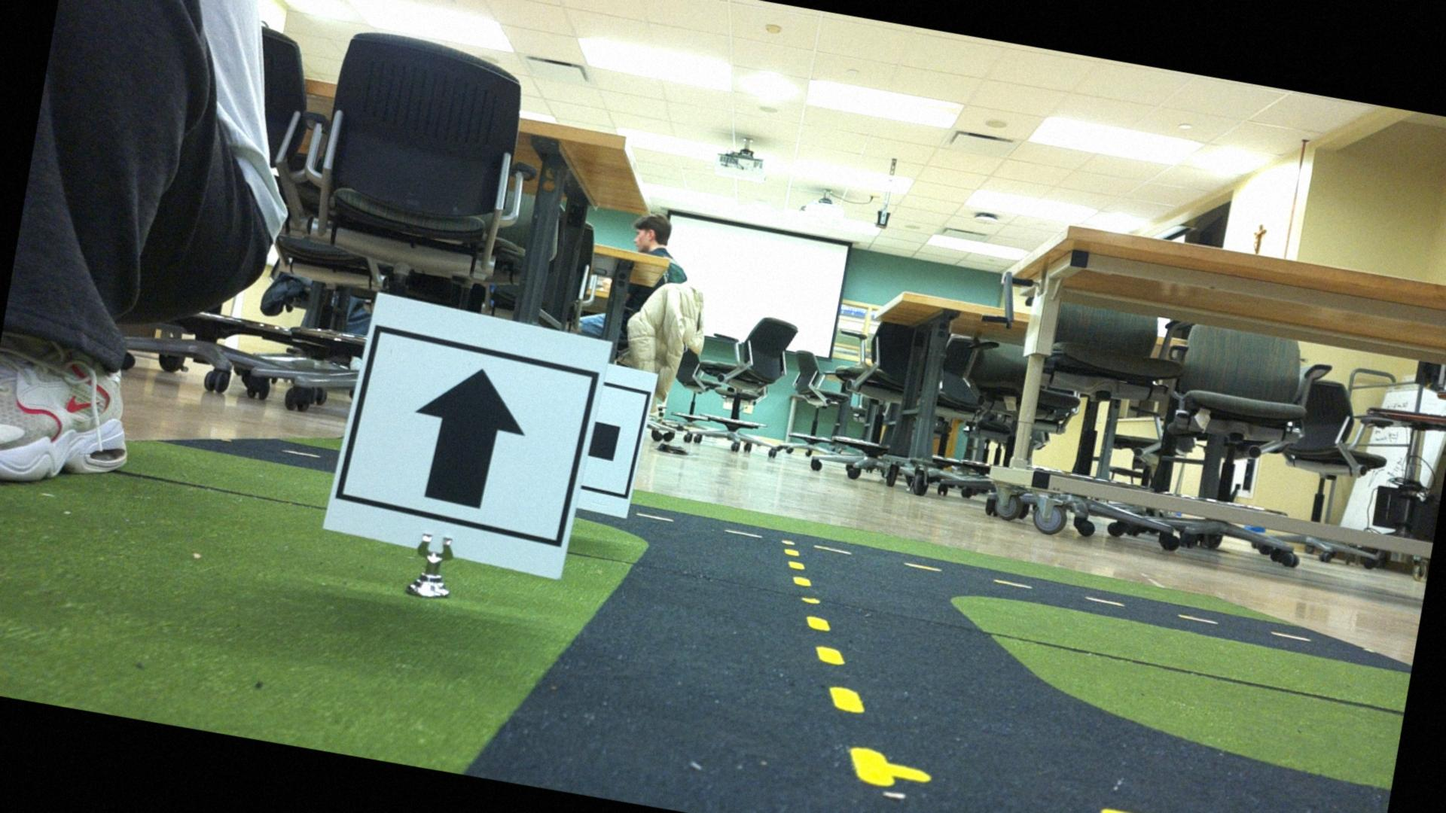gostraight: (329, 303, 596, 569)
yellowline: (745, 537, 929, 788)
